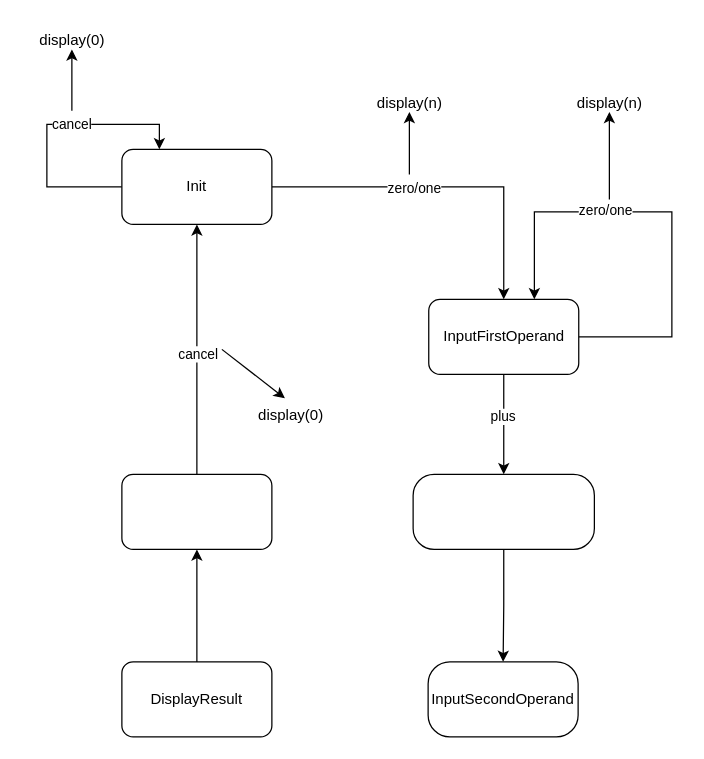
Image size: 704x759. Some labels were removed from this diagram. The shapes that lost their labels are listed below. From the top down, each one's centre as x and y in pixels, then its label:
At [196,511]: "ResetWait".
At [503,511]: "WaitforSecondOperand".
